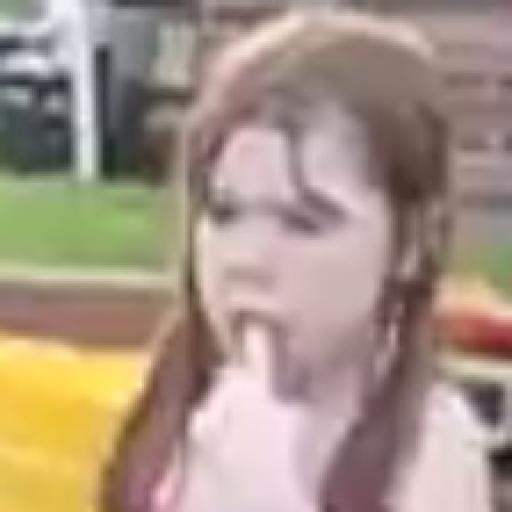Autism: (179, 21, 446, 394)
